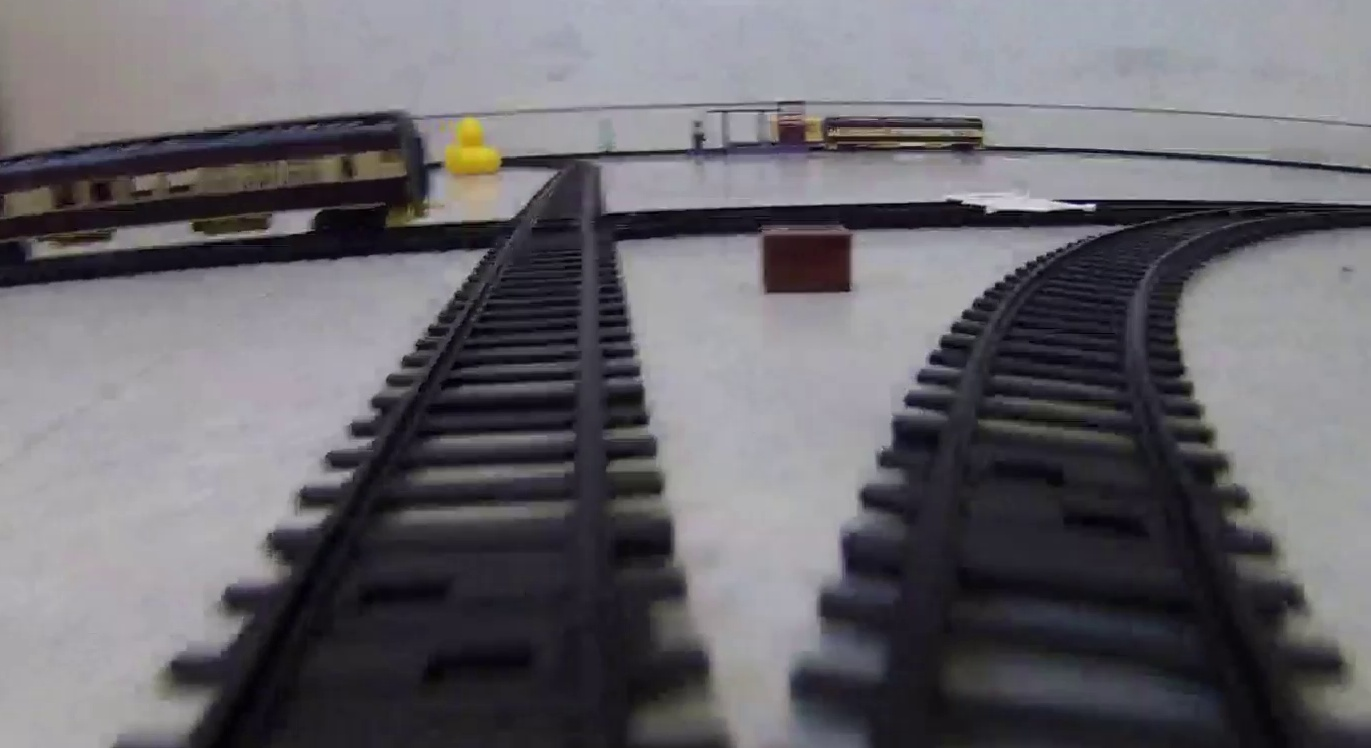box: (761, 225, 854, 293)
web: (945, 190, 1096, 211)
